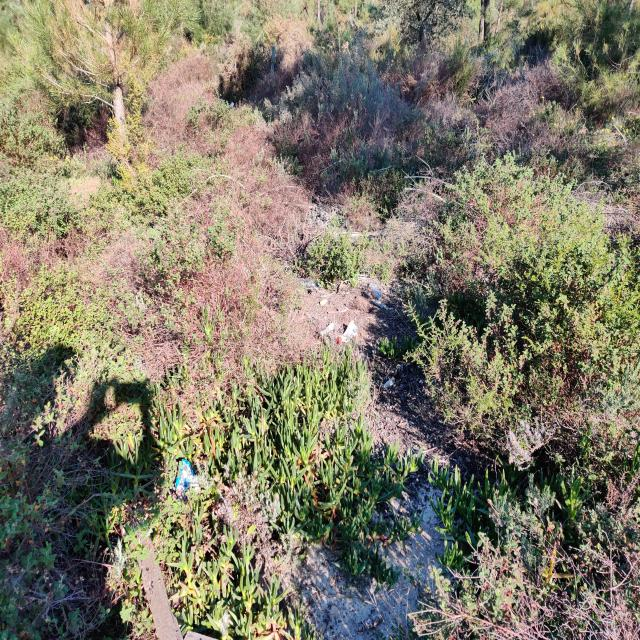litter: (168, 450, 202, 505)
